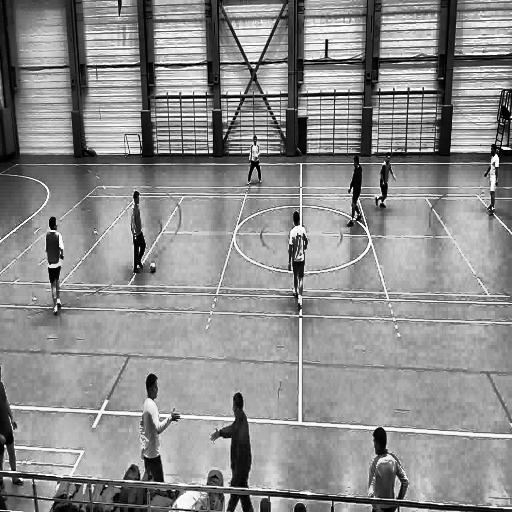ball: (148, 261, 156, 275)
player: (138, 369, 183, 479), (208, 385, 253, 485), (287, 207, 312, 319), (44, 215, 64, 318), (482, 140, 501, 218), (129, 188, 146, 275), (345, 153, 363, 231), (374, 152, 396, 214), (246, 134, 263, 188)
